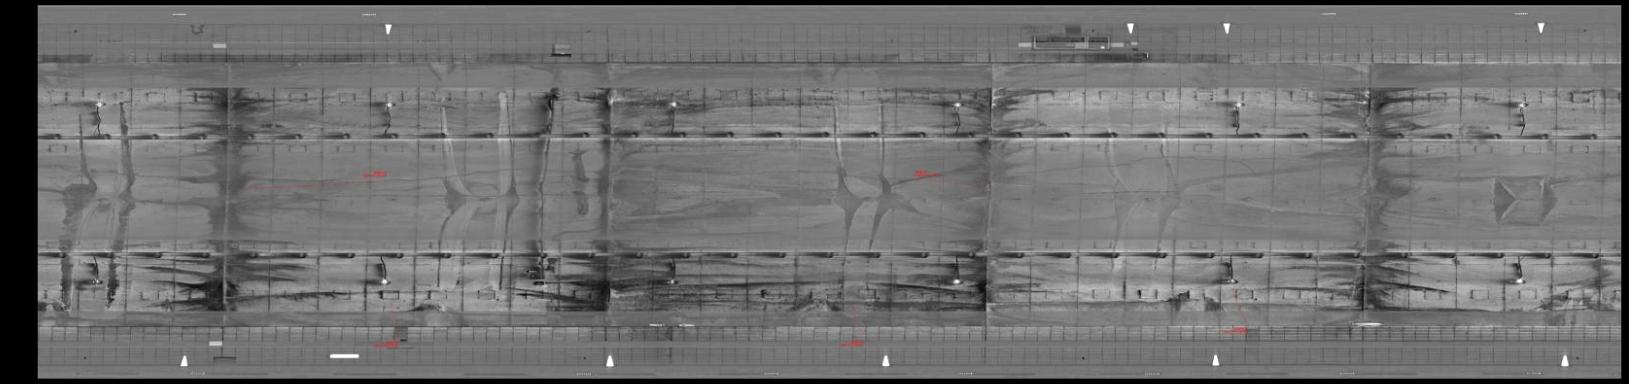light: (376, 98, 402, 112), (1510, 274, 1530, 290), (1220, 274, 1241, 289), (1511, 95, 1533, 109), (945, 98, 969, 109), (949, 275, 967, 289), (374, 274, 393, 287), (90, 97, 109, 110), (1225, 98, 1247, 109), (87, 274, 105, 287), (664, 99, 684, 110), (662, 277, 684, 286)
